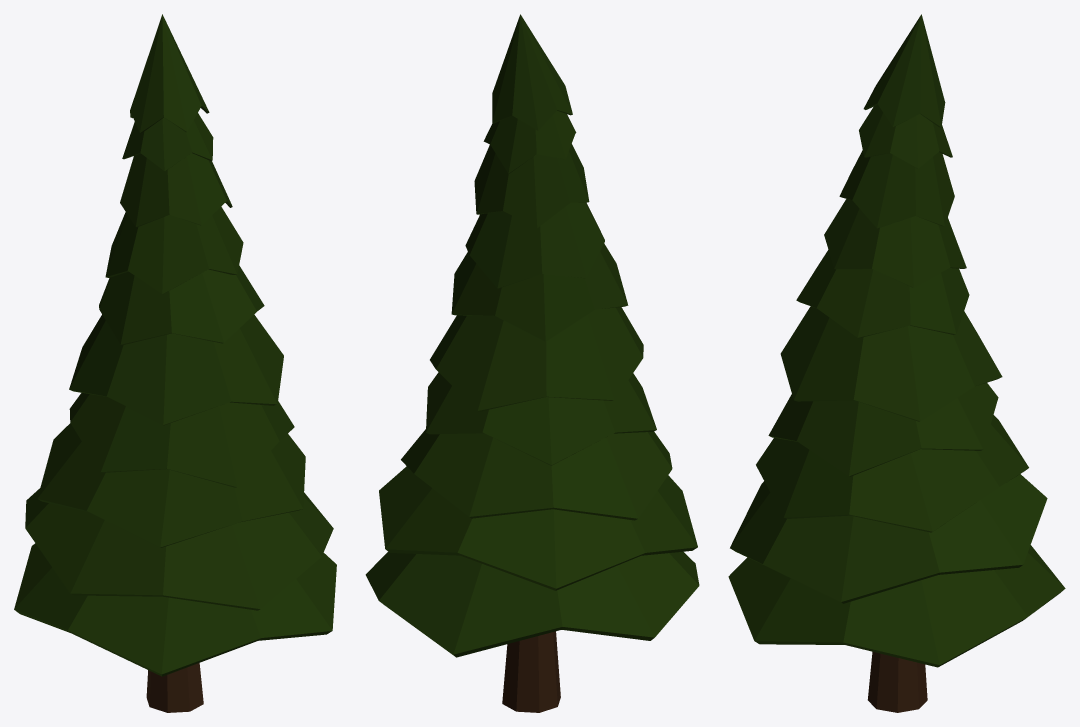
Rendered from LP Small Pine Tree ST1.fbx.
The picture shows the model from 3 angles, left to right: view 1: azimuth 30°, elevation 25°; view 2: azimuth 150°, elevation 25°; view 3: azimuth 270°, elevation 25°; orthographic projection. The views are drawn at different scales.
Parts seen in each view (by area): view 1: P T L trunk; view 2: P T L trunk; view 3: P T L trunk.
Boxes of the visible parts, left/top/right/bottom form: P T L trunk: left=14, top=14, right=336, bottom=712; P T L trunk: left=365, top=14, right=699, bottom=712; P T L trunk: left=728, top=14, right=1065, bottom=712.
Size of the model in its own units: 592 by 1361 by 606.
